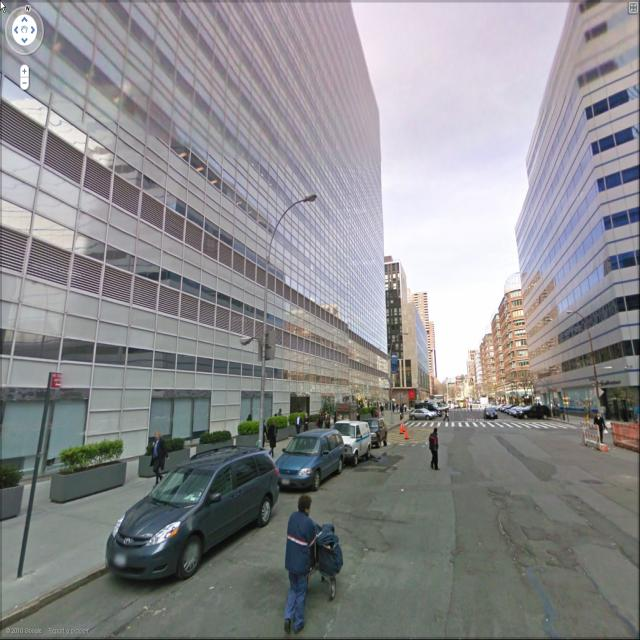b_1: (4, 5, 394, 391), (513, 9, 640, 396), (499, 286, 544, 403), (384, 261, 424, 385), (490, 309, 513, 398), (475, 336, 502, 398), (410, 288, 436, 333)
